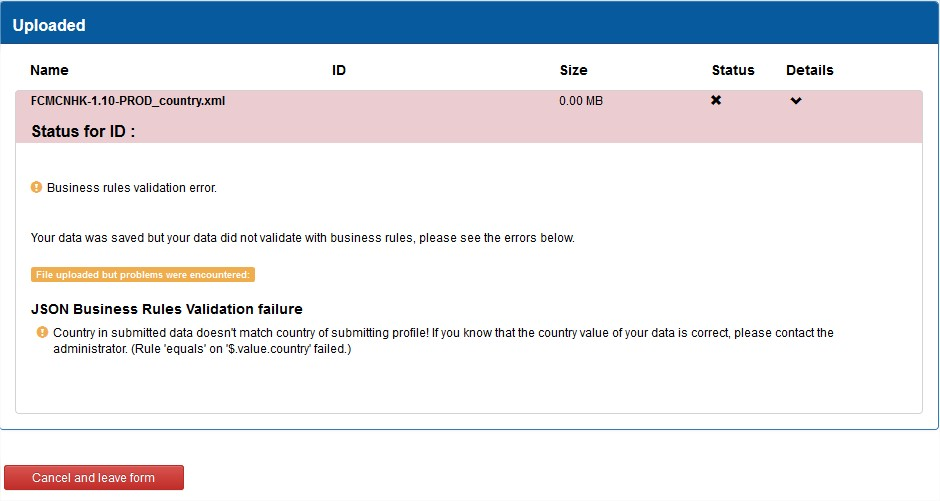error_message: (31, 93, 232, 139), (30, 472, 162, 485)
